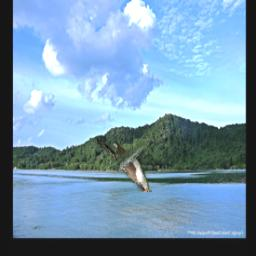Cuckoo: (96, 138, 151, 193)
